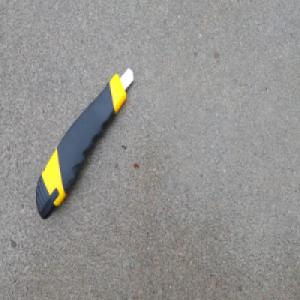Cutter: (35, 68, 134, 225)
